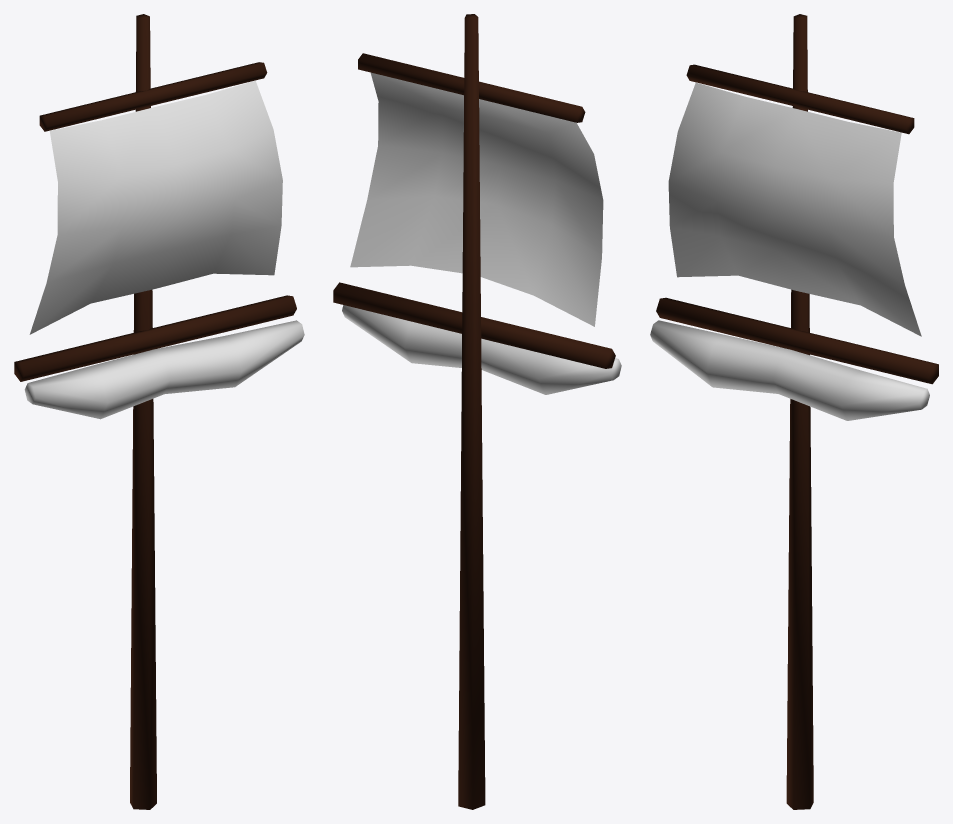
Rendered from foremast-half.obj.
3 renders of one model, left to right at view 1: azimuth 30°, elevation 25°; view 2: azimuth 150°, elevation 25°; view 3: azimuth 330°, elevation 25°, orthographic.
Parts seen in each view (by area): view 1: Plane.011_Plane.001_SailCloth, Cylinder.044_Cylinder.011_SailCloth, Cylinder.041_Cylinder_Wood, Cylinder.042_Cylinder.001_Wood, Cylinder.043_Cylinder.001_Wood; view 2: Plane.011_Plane.001_SailCloth, Cylinder.041_Cylinder_Wood, Cylinder.044_Cylinder.011_SailCloth, Cylinder.042_Cylinder.001_Wood, Cylinder.043_Cylinder.001_Wood; view 3: Plane.011_Plane.001_SailCloth, Cylinder.044_Cylinder.011_SailCloth, Cylinder.041_Cylinder_Wood, Cylinder.042_Cylinder.001_Wood, Cylinder.043_Cylinder.001_Wood.
Boxes of the visible parts, x1,y1,x2,y2 form: Plane.011_Plane.001_SailCloth: [29, 80, 282, 334]; Cylinder.044_Cylinder.011_SailCloth: [24, 320, 304, 419]; Cylinder.041_Cylinder_Wood: [130, 14, 156, 809]; Cylinder.042_Cylinder.001_Wood: [14, 295, 296, 381]; Cylinder.043_Cylinder.001_Wood: [39, 62, 267, 131]; Plane.011_Plane.001_SailCloth: [350, 72, 603, 326]; Cylinder.041_Cylinder_Wood: [458, 14, 485, 809]; Cylinder.044_Cylinder.011_SailCloth: [342, 305, 621, 394]; Cylinder.042_Cylinder.001_Wood: [333, 282, 615, 368]; Cylinder.043_Cylinder.001_Wood: [358, 53, 585, 122]; Plane.011_Plane.001_SailCloth: [668, 82, 921, 336]; Cylinder.044_Cylinder.011_SailCloth: [650, 320, 929, 420]; Cylinder.041_Cylinder_Wood: [786, 14, 813, 809]; Cylinder.042_Cylinder.001_Wood: [656, 297, 938, 384]; Cylinder.043_Cylinder.001_Wood: [686, 64, 914, 134].
Size of the model in its own units: 1.66 by 4.59 by 0.4138.
